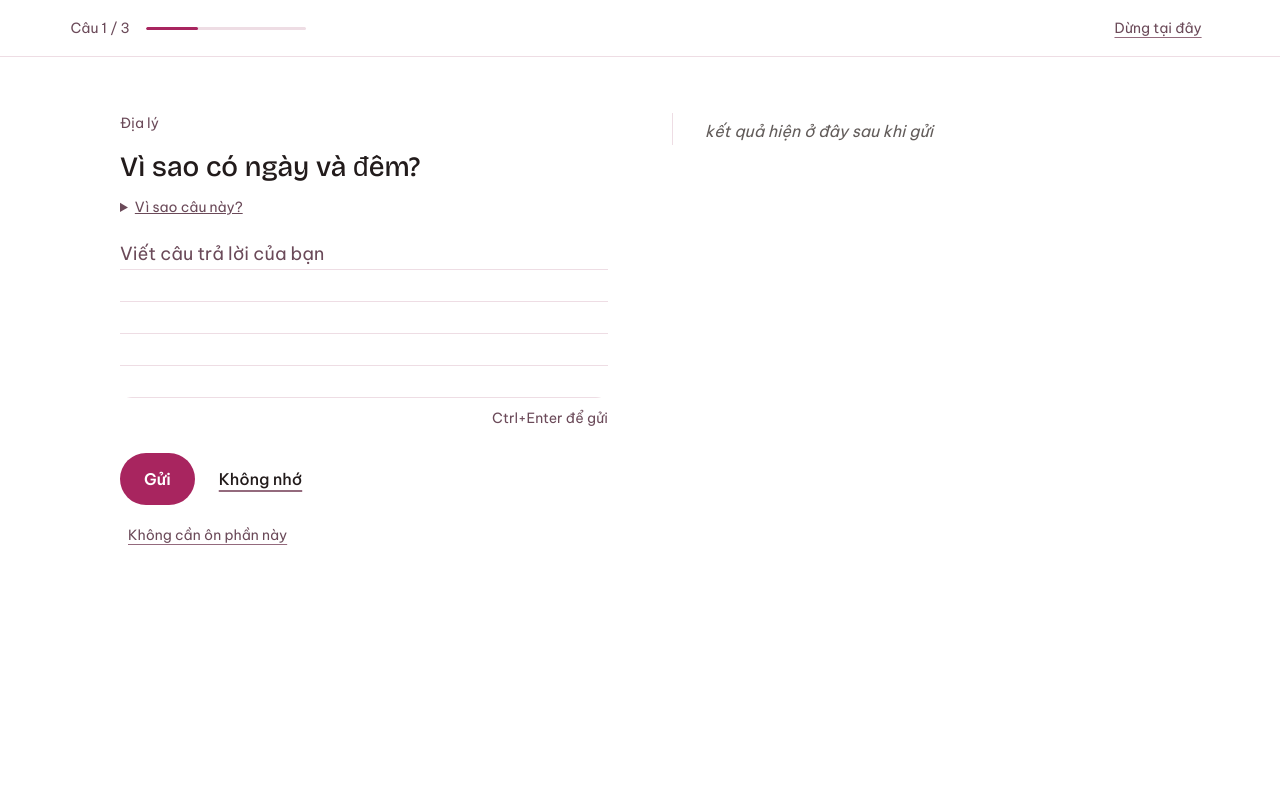
Test case: Không cần ôn phần này (T2.24, US-04 AC5) › US-04 AC5: no question left closes the session (T2.17 then shows its summary)
Step 1. Click the button "Không cần ôn phần này" → (208, 535), box [120,513,295,557]
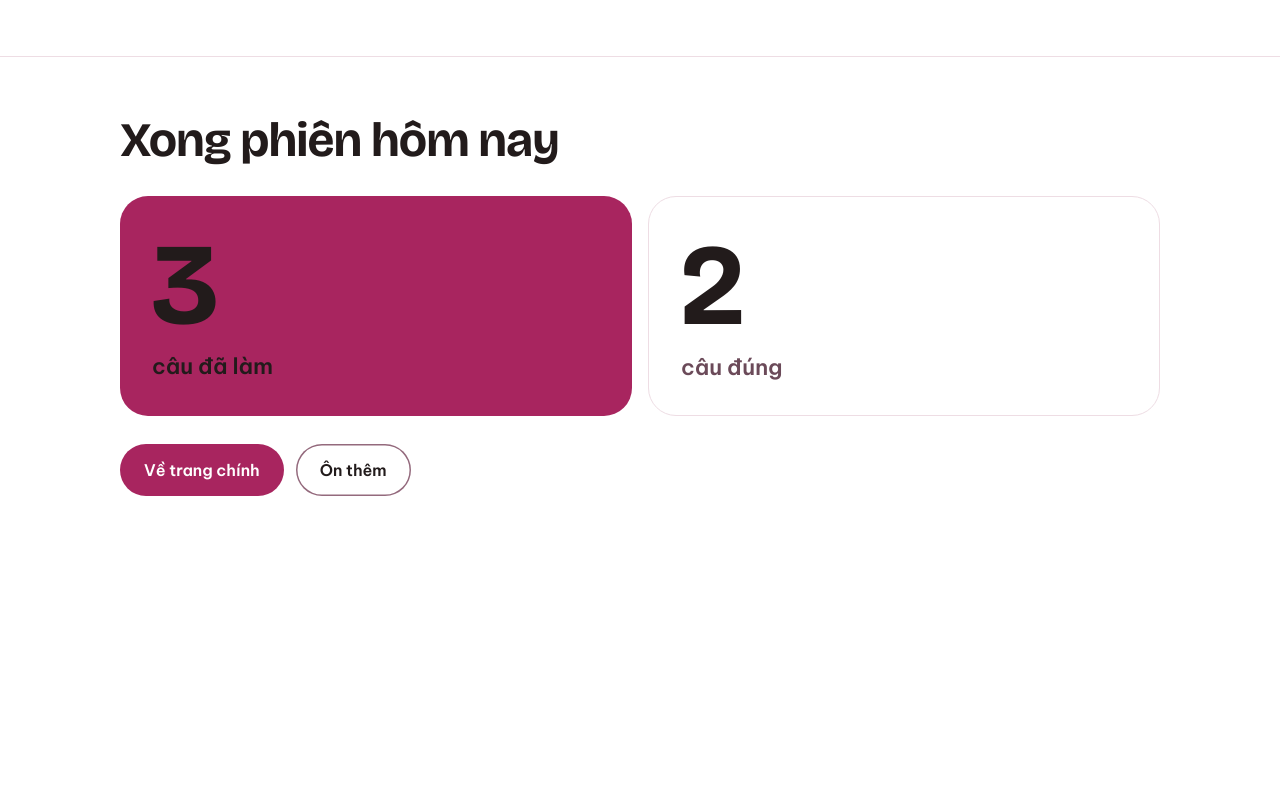
Check: the heading "Xong phiên hôm nay" is shown, box [120,113,559,168]
